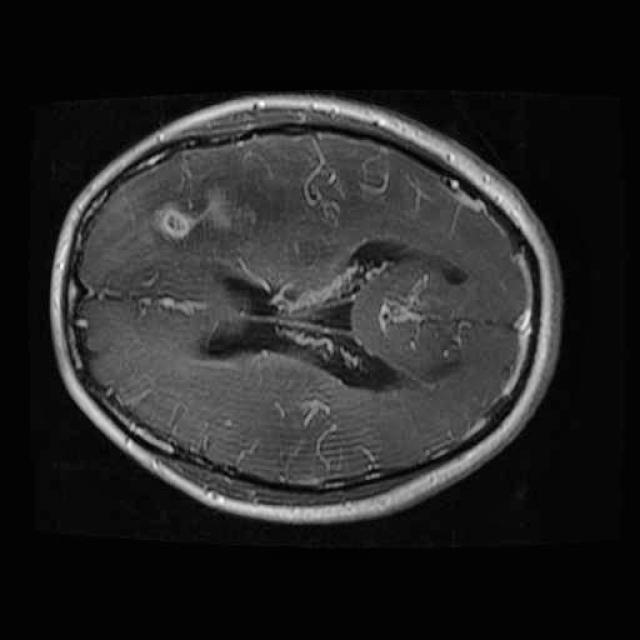Non-Tumor: (126, 142, 284, 269)
